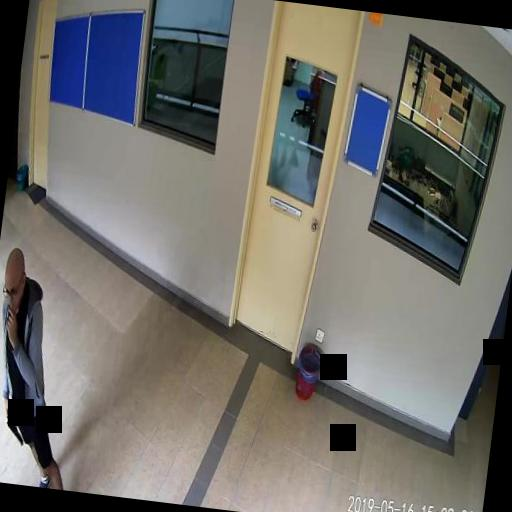Handgun: (2, 406, 24, 444)
